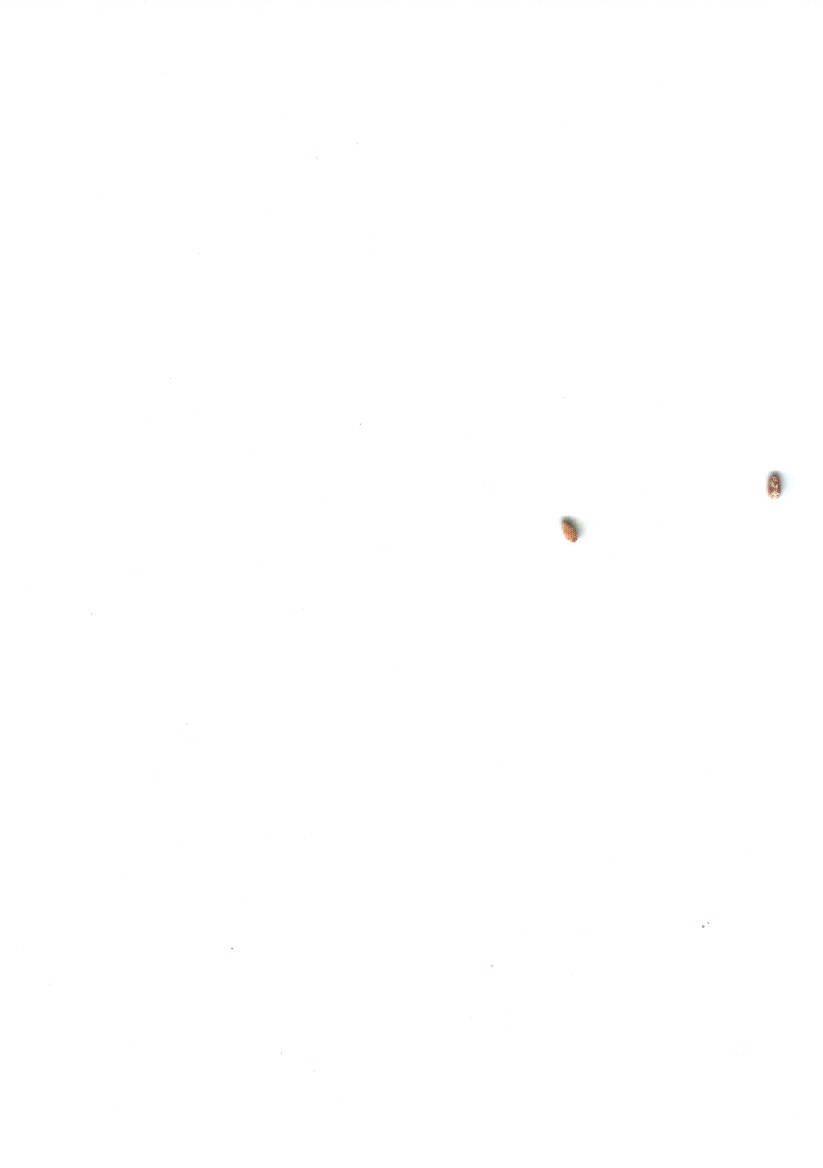grains: (549, 503, 594, 555), (754, 460, 797, 503)
